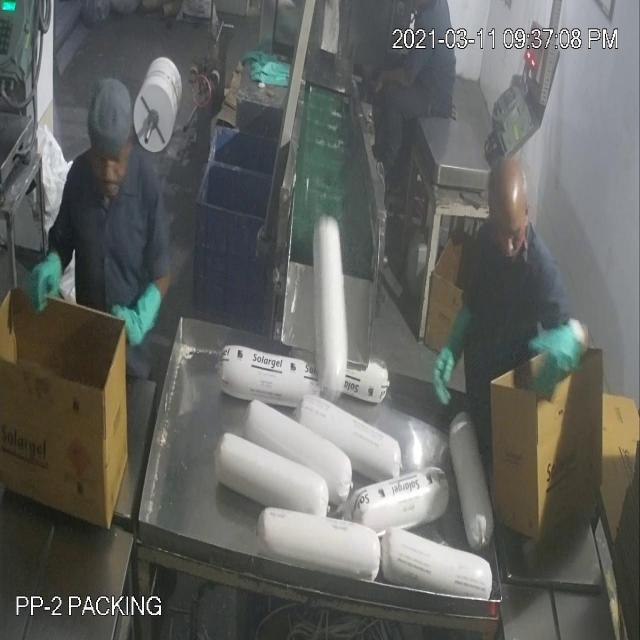Gloves: (36, 78, 553, 360)
